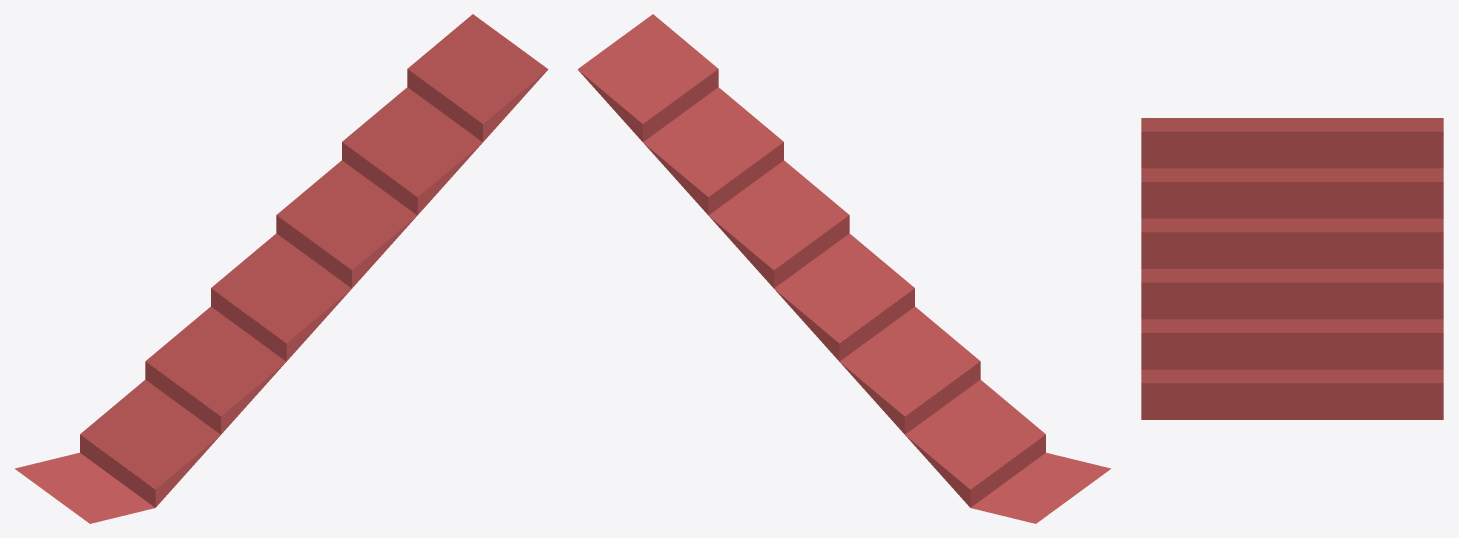
File: km3_dan3.glb
The picture shows the model from 3 angles, left to right: view 1: azimuth 30°, elevation 25°; view 2: azimuth 150°, elevation 25°; view 3: azimuth 270°, elevation 25°; orthographic projection. The views are drawn at different scales.
Parts seen in each view (by area): view 1: km3_dan3_col; view 2: km3_dan3_col; view 3: km3_dan3_col.
Part boxes in pixels (x1=…): km3_dan3_col: x1=15, y1=14, x2=548, y2=523; km3_dan3_col: x1=577, y1=14, x2=1110, y2=523; km3_dan3_col: x1=1141, y1=118, x2=1443, y2=419.
Size of the model in its own units: 2.1 by 1.5 by 0.603.
